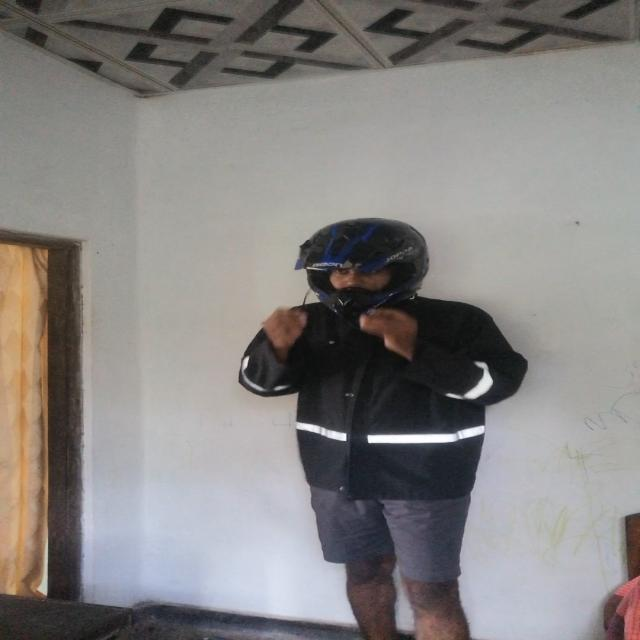Helmet_Wearer: (286, 222, 462, 311)
Jacket_Wearer: (235, 293, 516, 489)
Person: (234, 216, 525, 596)
